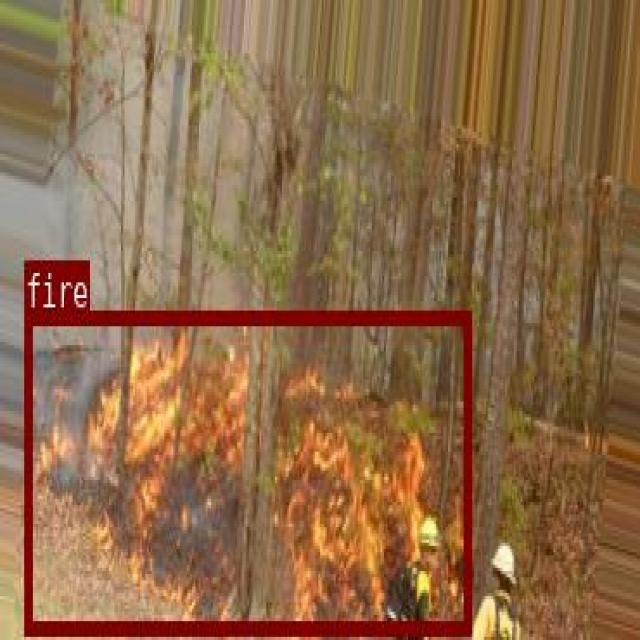fire: (24, 310, 469, 631)
